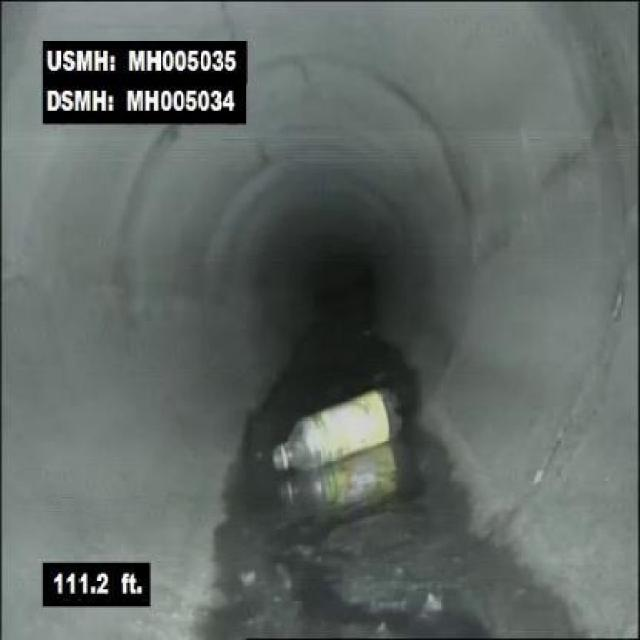Crack: (476, 108, 612, 272), (217, 3, 240, 39)
